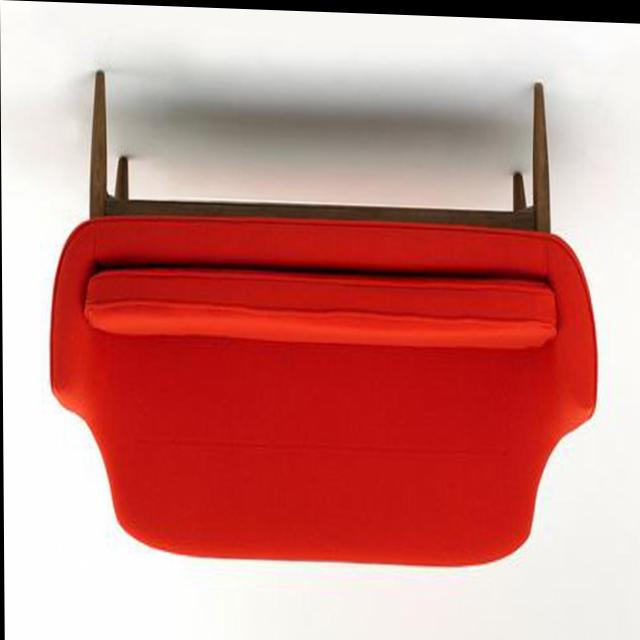Sofa: (52, 73, 599, 568)
